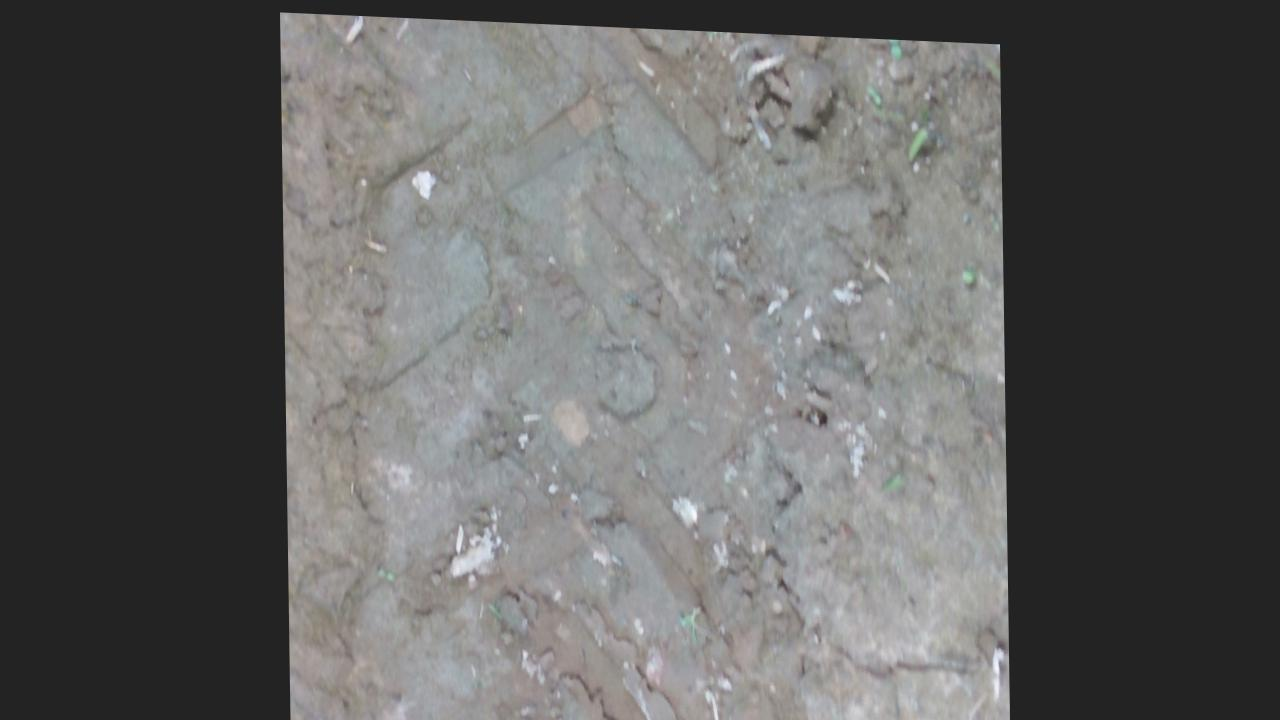weed: (884, 31, 902, 55)
